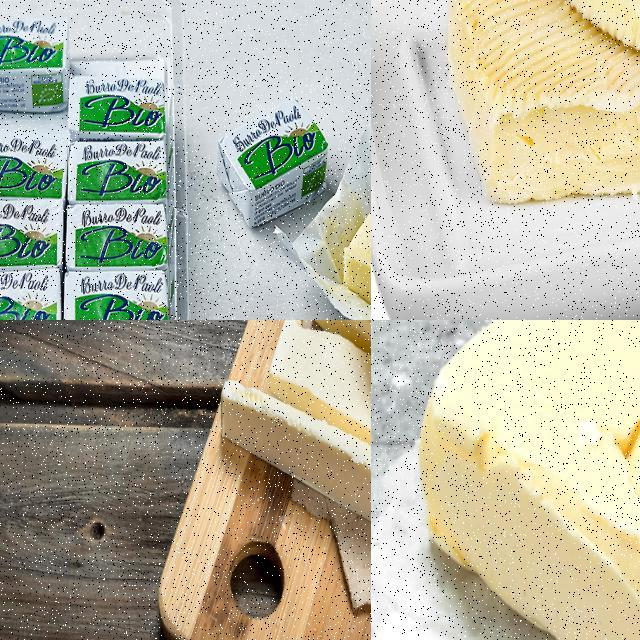Butter: (420, 320, 639, 639), (445, 0, 639, 204), (217, 320, 370, 569), (342, 202, 370, 319)
